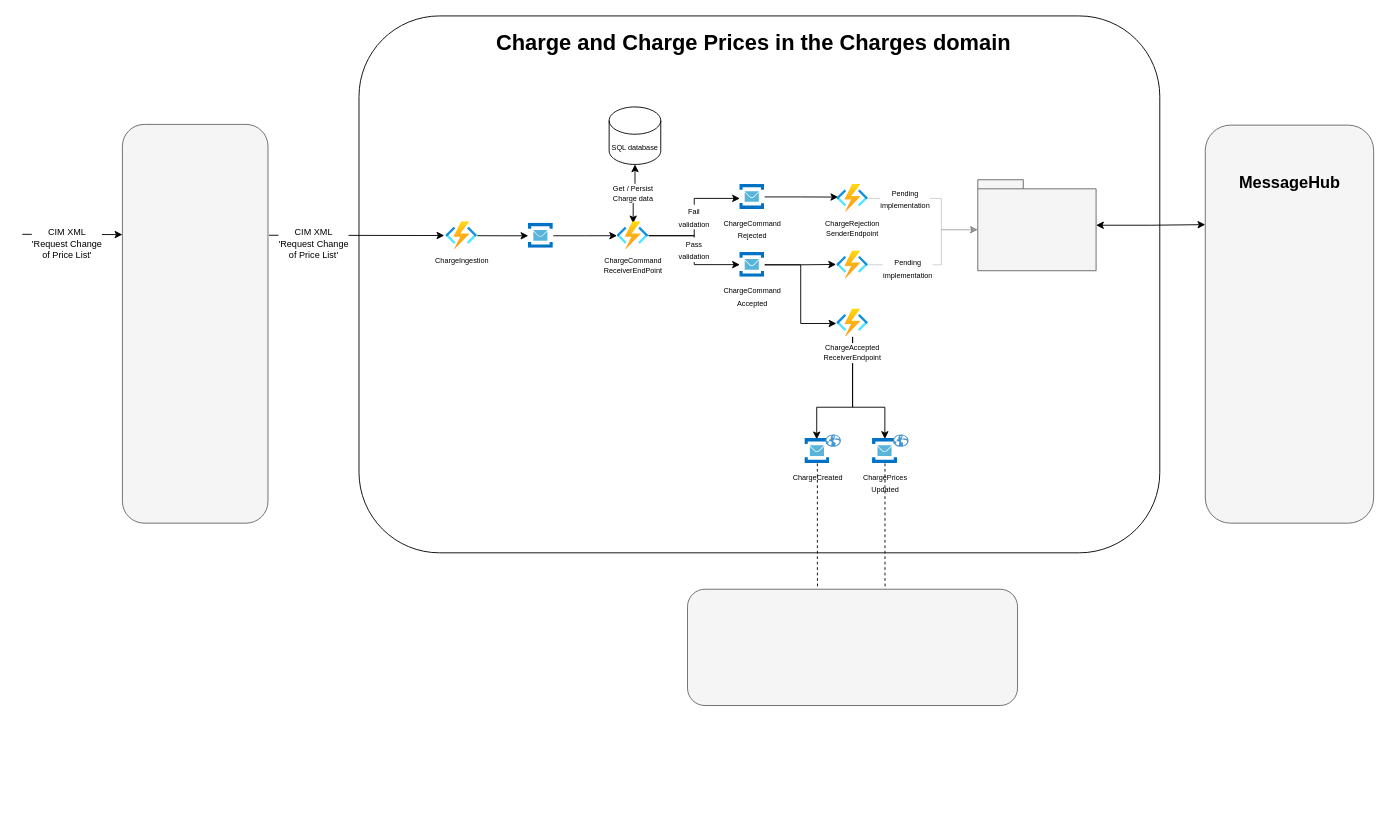
Some shapes in this 1390 by 838 pixel diagram are drawn without their labels. Here are the shapes that lost their labels. From the top down, the centre of each, then its label:
the point at 540,235: ChargeCommand Received
the point at 1036,225: NuGet.Package: Energinet.DataHub .MessageHub.Client
the point at 852,264: ChargeConfirmation SenderEndpoint
the point at 194,323: API Gateway
the point at 852,647: Aggregations domain
